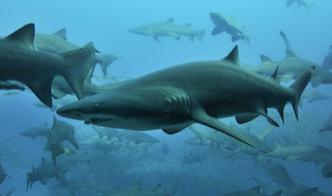Shark -Selachimorpha-: (51, 39, 315, 148)
